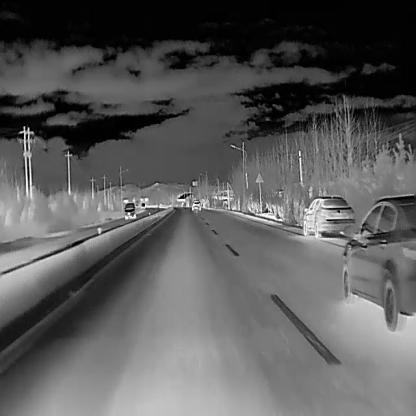car: (342, 192, 416, 330), (302, 195, 355, 238), (123, 202, 136, 220), (190, 198, 201, 210)
truck: (140, 201, 146, 209)
